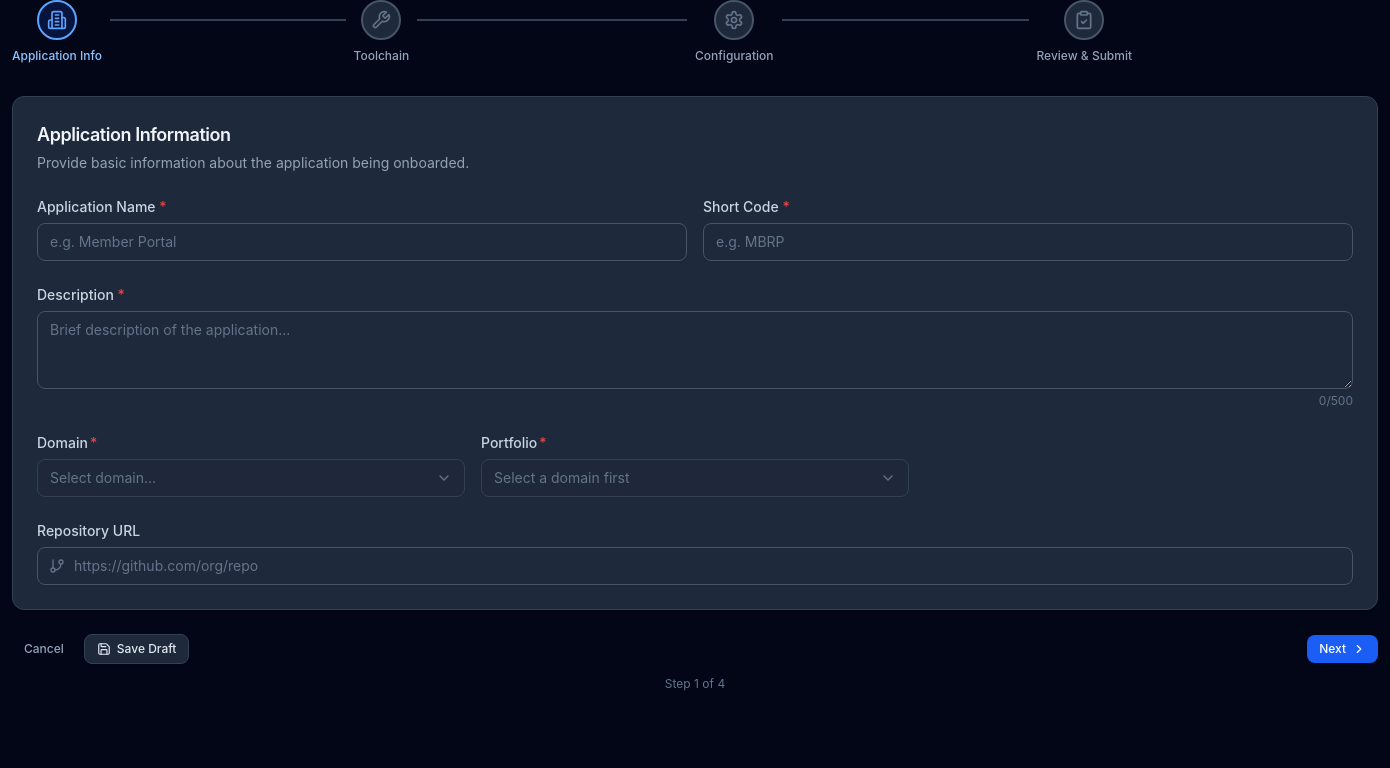
Test case: Step 1 validation › validates short code must be alphanumeric
Type "Test App" into the field labelled "Application Name *". click: (362, 242)
box: [37,223,687,261]
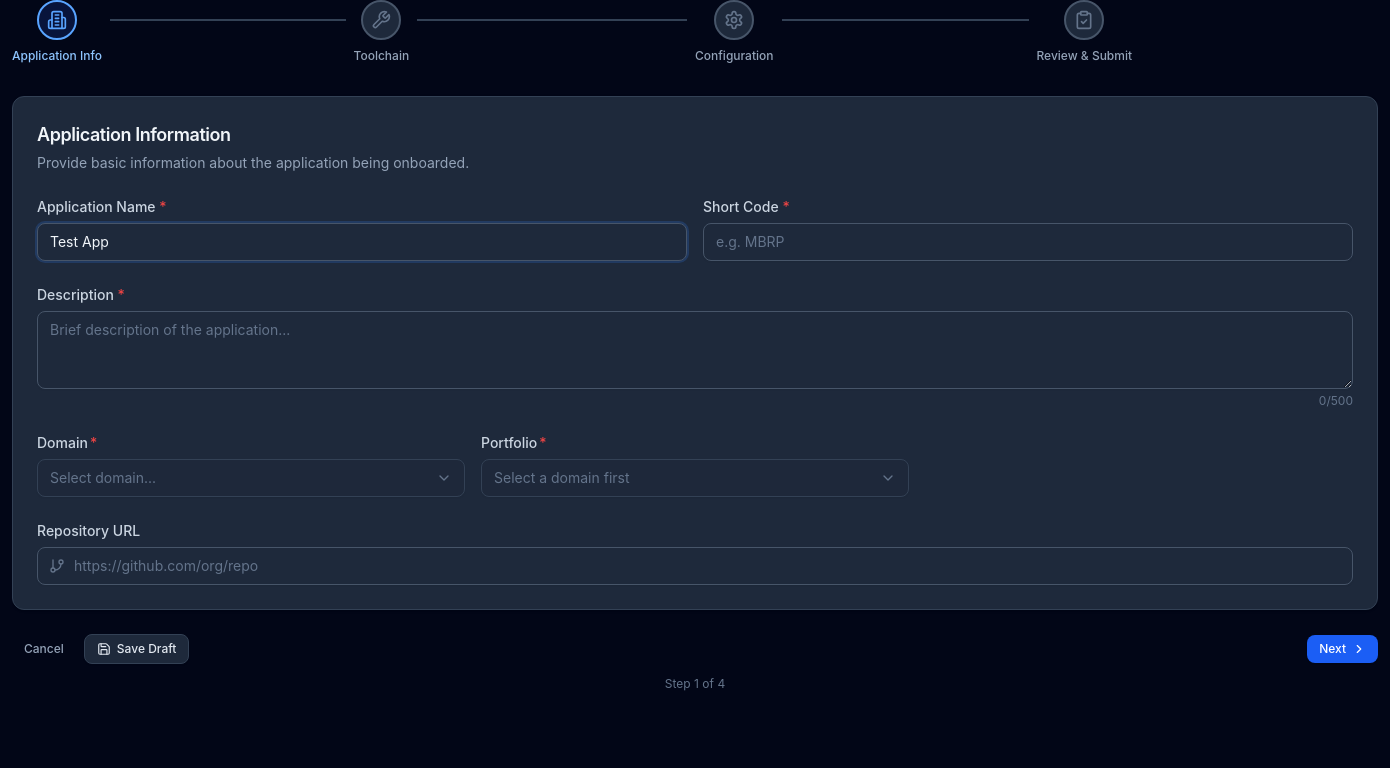
Type "A@B!" into the field labelled "Short Code *". click: (1028, 242)
box: [703,223,1353,261]
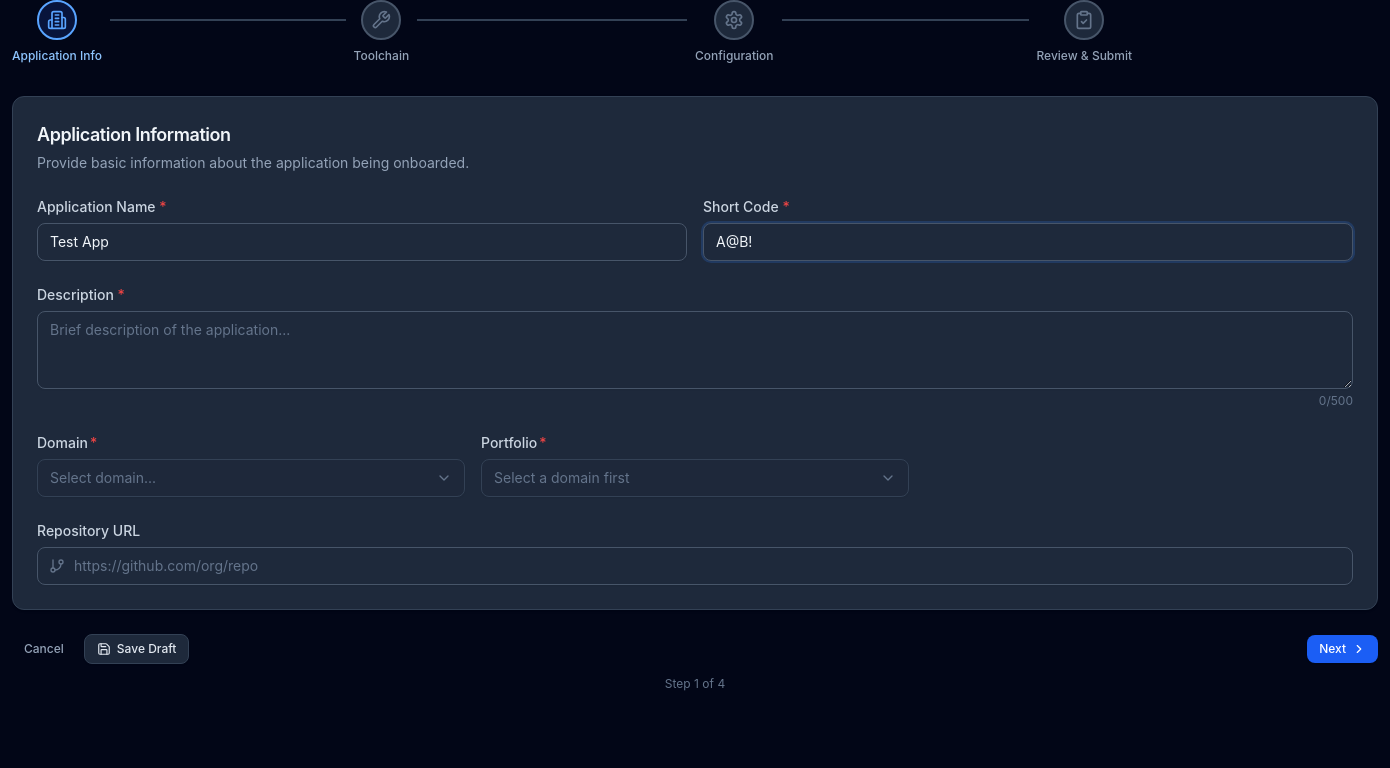
Type "A test application description" into the text box labelled "Description *". click: (695, 350)
box: [37,311,1353,389]
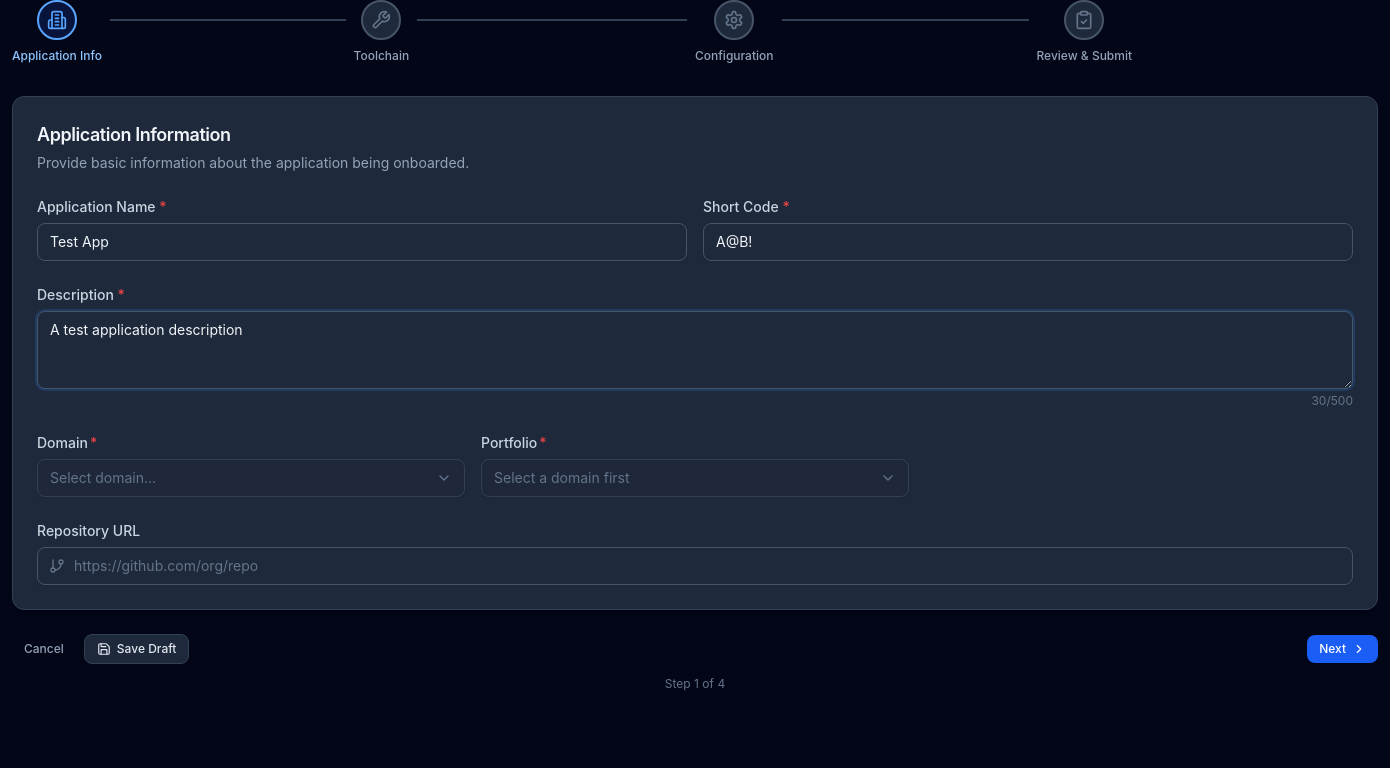
Click the button "Next". click: (1343, 649)
box: [1307,635,1378,663]
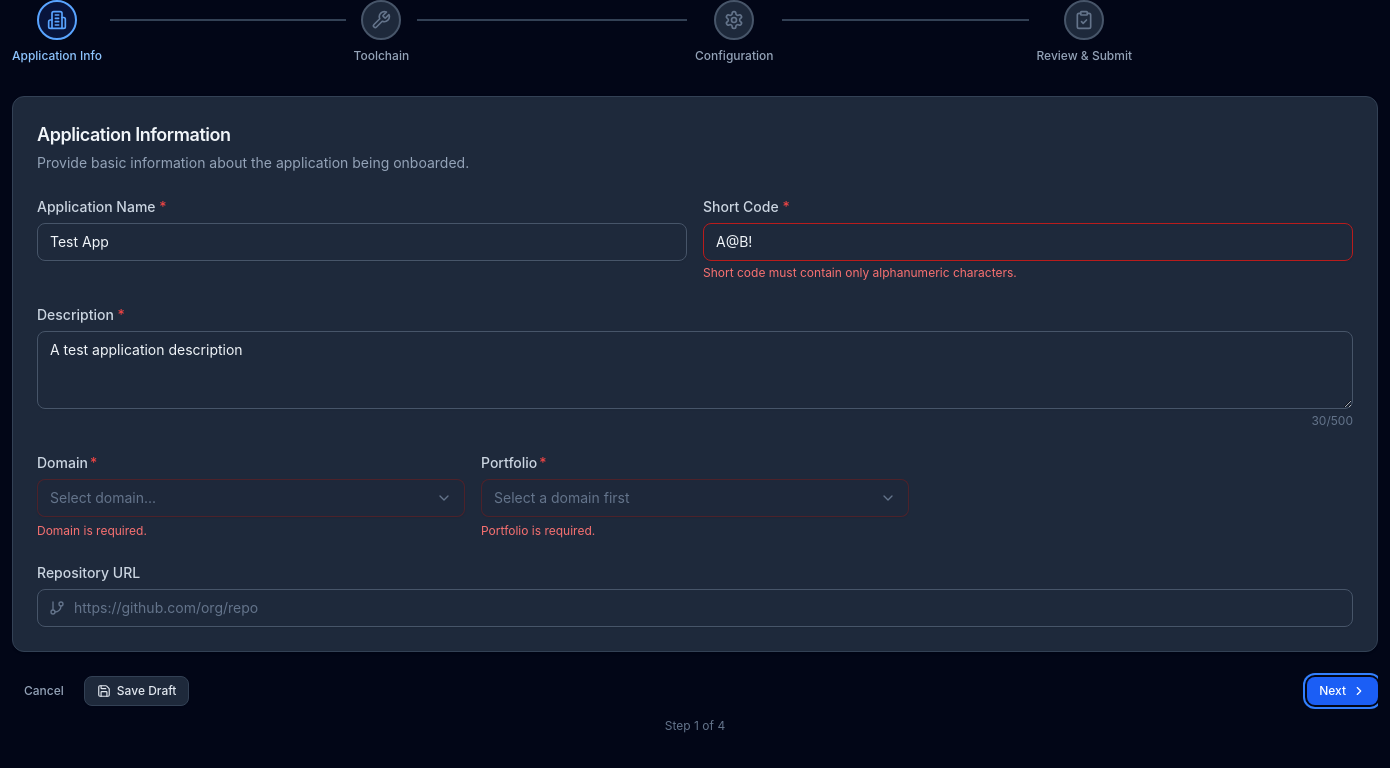
Expected: the text "Short code must contain only alphanumeric characters." is shown, [703,265,1017,280]
